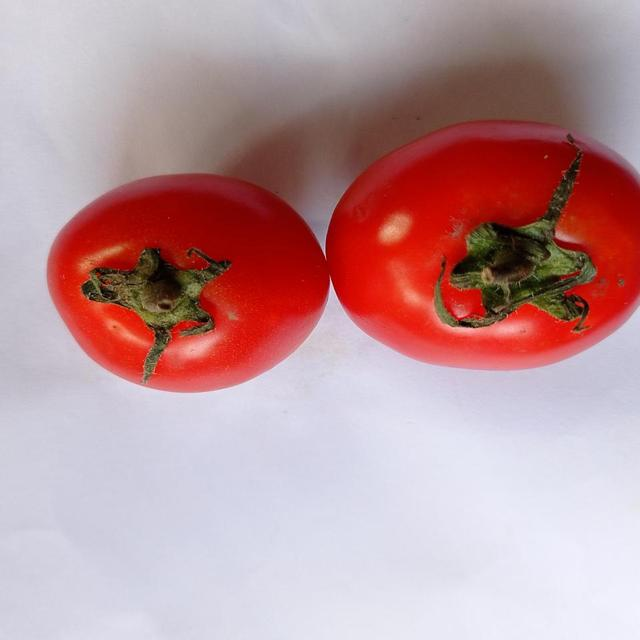Healthy Fruit: (122, 156, 320, 188)
